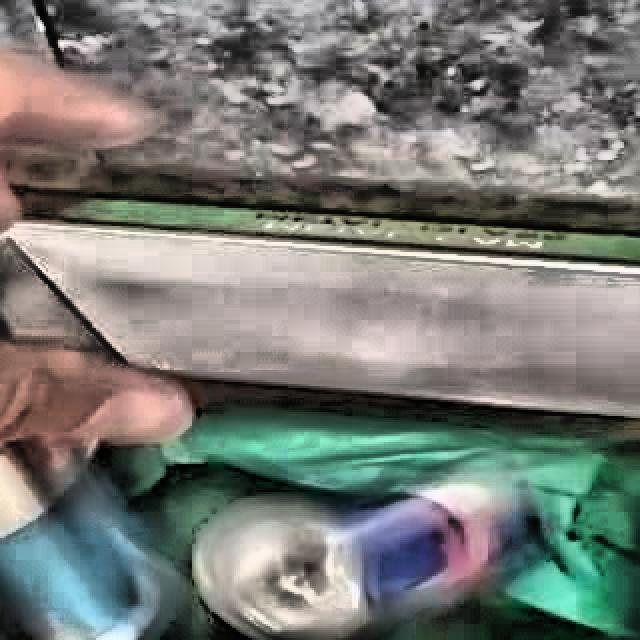metal: (192, 484, 512, 640), (0, 442, 188, 640)
